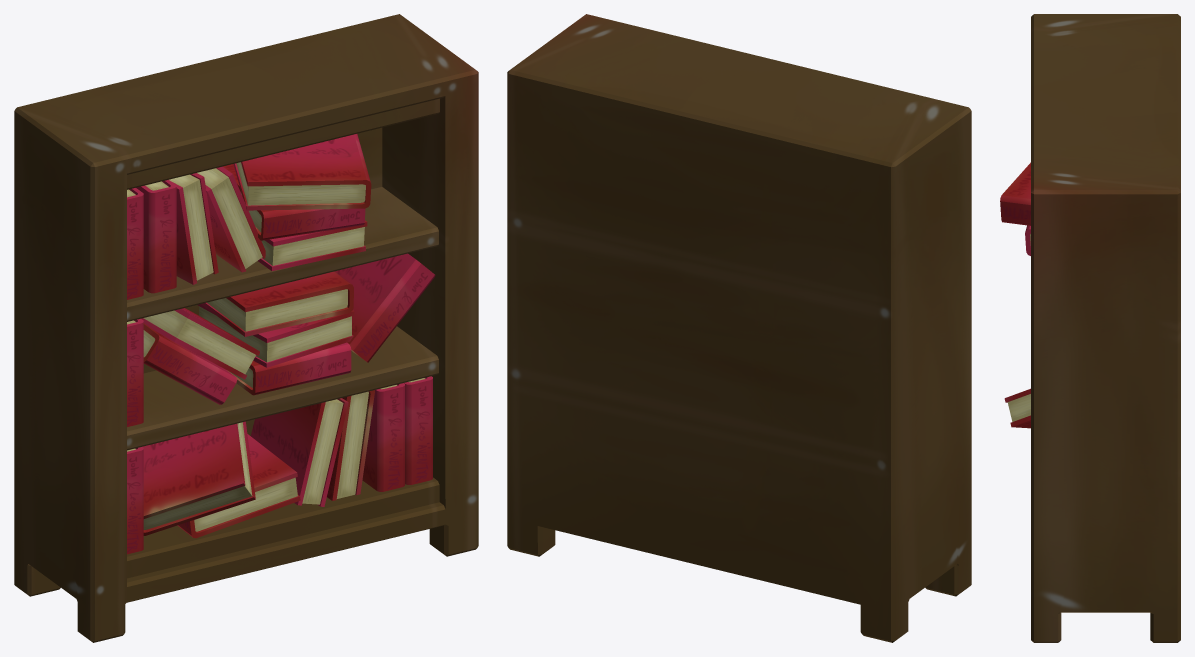
Rendered from Bokhylla.fbx.
3 renders of one model, left to right at view 1: azimuth 30°, elevation 25°; view 2: azimuth 150°, elevation 25°; view 3: azimuth 270°, elevation 25°, orthographic. The views are drawn at different scales.
Visible parts, largest first — view 1: booksehelf; view 2: booksehelf; view 3: booksehelf.
Boxes of the visible parts, left/top/right/bottom form: booksehelf: left=14, top=14, right=478, bottom=642; booksehelf: left=507, top=14, right=971, bottom=642; booksehelf: left=1000, top=14, right=1180, bottom=642.
Size of the model in its own units: 1.24 by 1.47 by 0.5307.
1 material, 1 textured.
